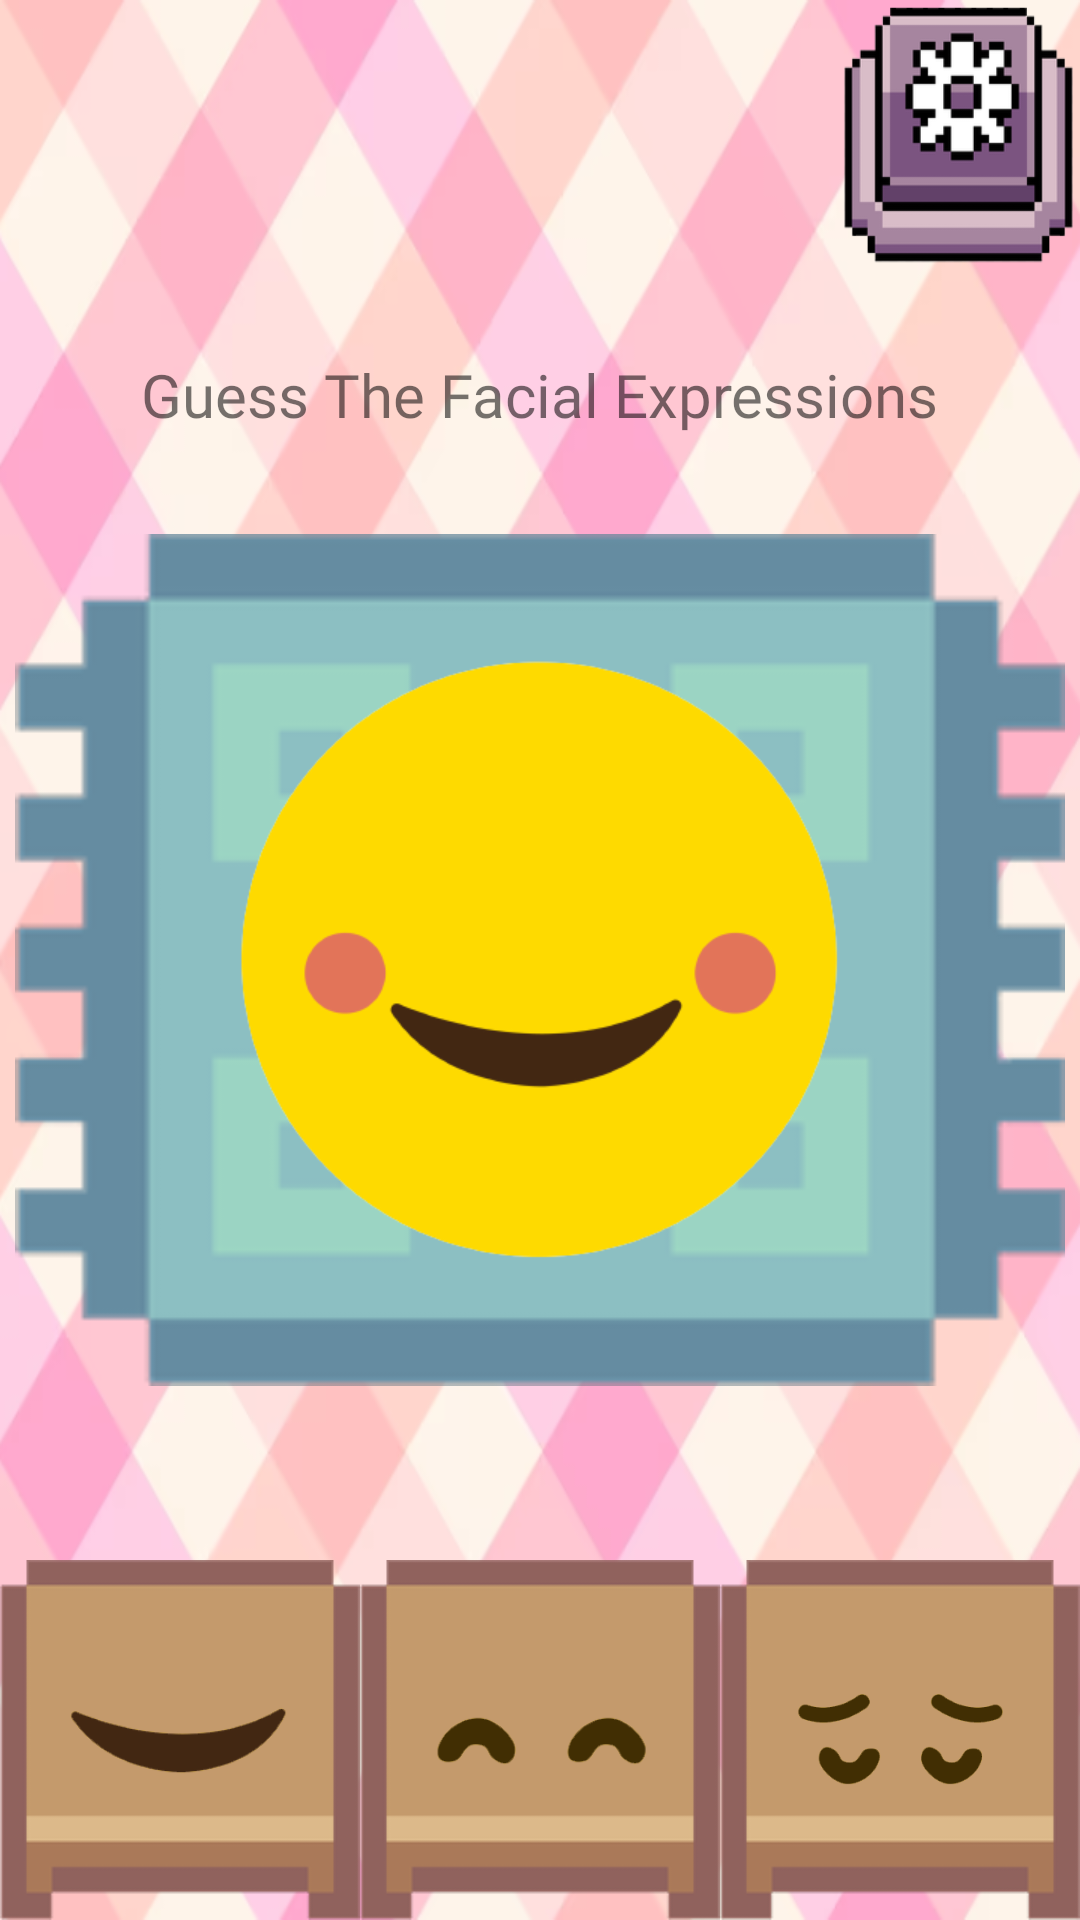

Icon click points for this 1080 × 1920 phone screenshot, format [x,y]:
happy eye: [539,1785]
happy mouth: [179,1780]
sad eye: [899,1773]
